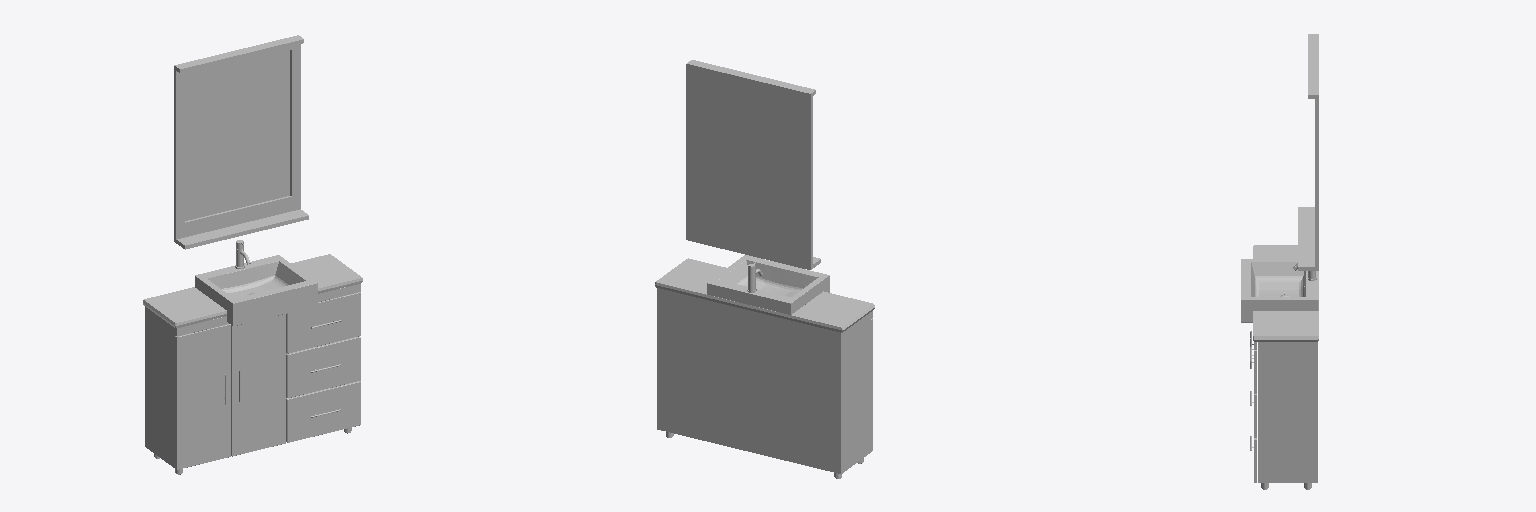
Rendered from LavaManos.obj.
The picture shows the model from 3 angles: view 1: azimuth 30°, elevation 25°; view 2: azimuth 150°, elevation 25°; view 3: azimuth 270°, elevation 25°; orthographic projection.
Visible parts, largest first — view 1: default; view 2: default; view 3: default.
Part boxes in pixels (x1,y1,x2,y2): default: (143, 35, 362, 474); default: (655, 60, 874, 478); default: (1241, 34, 1318, 489).
Bounding box in the file's own units: 3.65 × 7.07 × 1.31.